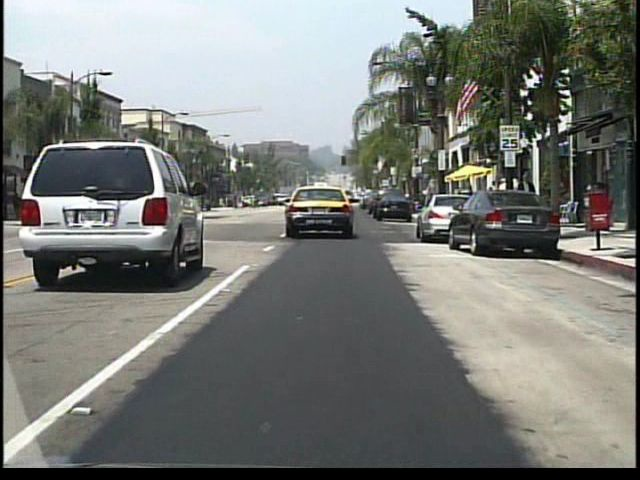person: (514, 171, 536, 225), (522, 178, 537, 219), (500, 178, 515, 218), (511, 181, 525, 217), (269, 191, 277, 206)
